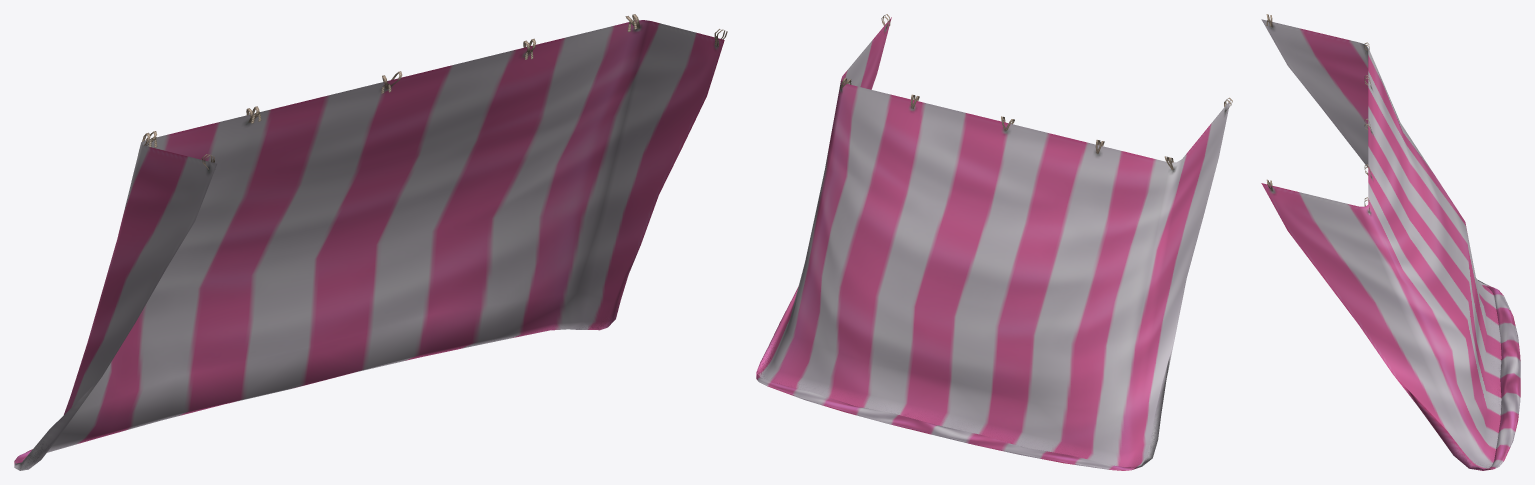
File: jsf_BackSide_s02_c06_t02.fbx
3 renders of one model, left to right at view 1: azimuth 30°, elevation 25°; view 2: azimuth 150°, elevation 25°; view 3: azimuth 270°, elevation 25°, orthographic. The views are drawn at different scales.
Visible parts, largest first — view 1: jsf_BackSide_s02_c06_t02; view 2: jsf_BackSide_s02_c06_t02; view 3: jsf_BackSide_s02_c06_t02.
Boxes of the visible parts, box(x1,y1,x2,y2) form: jsf_BackSide_s02_c06_t02: box(14, 14, 727, 470); jsf_BackSide_s02_c06_t02: box(756, 14, 1232, 470); jsf_BackSide_s02_c06_t02: box(1261, 14, 1520, 470).
Size of the model in its own units: 296 by 205 by 171.
